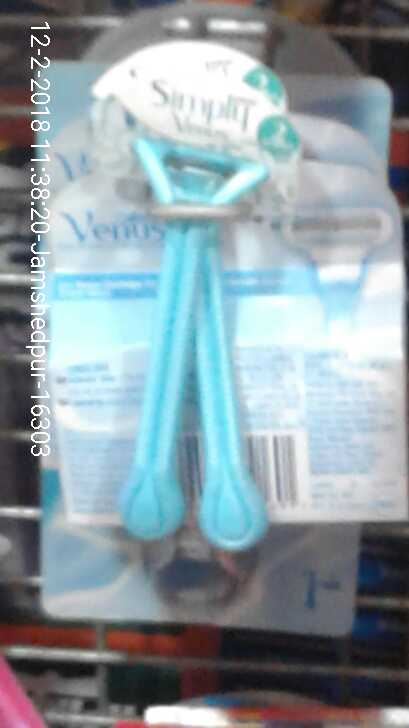reject: (98, 225, 242, 323)
